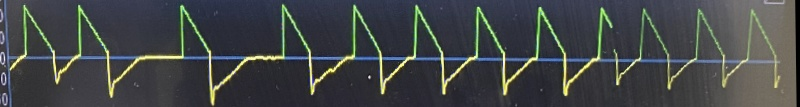normal_flow: (10, 0, 788, 105)
